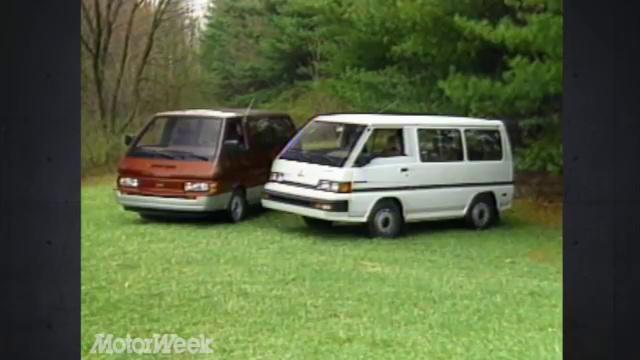Van: (269, 113, 517, 232), (117, 109, 298, 220)
